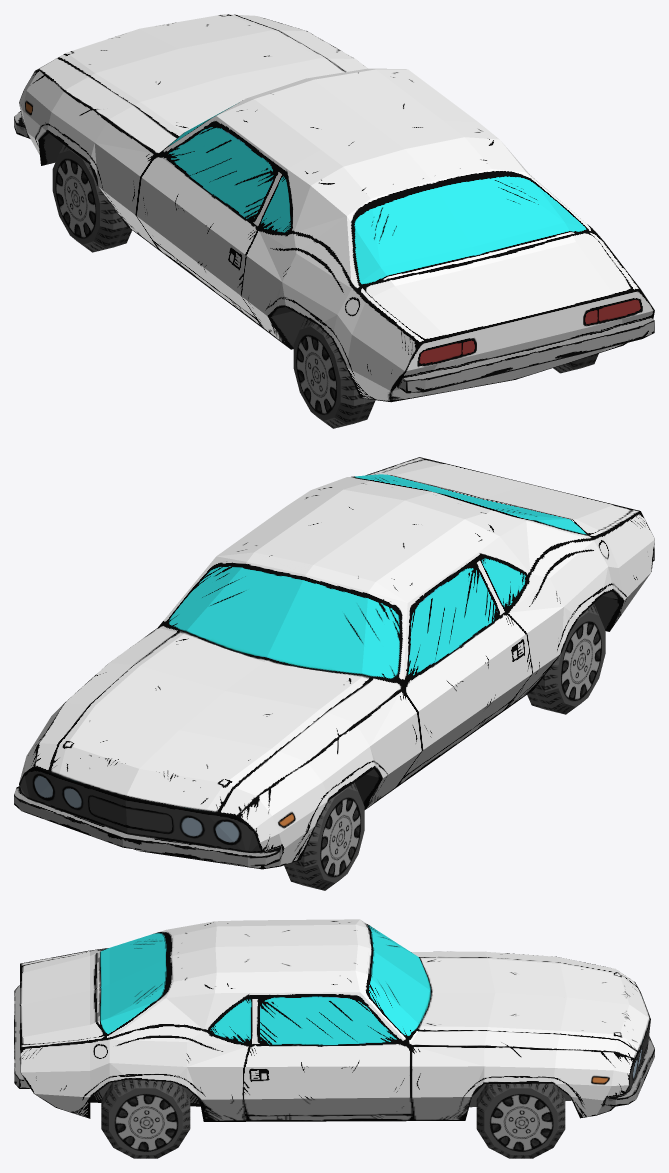
File: Lvl1.Car.fbx
The picture shows the model from 3 angles, top to bottom: view 1: azimuth 30°, elevation 25°; view 2: azimuth 150°, elevation 25°; view 3: azimuth 270°, elevation 25°; orthographic projection. The views are drawn at different scales.
Parts seen in each view (by area): view 1: Props_Car; view 2: Props_Car; view 3: Props_Car.
Boxes of the visible parts, bbox=[...] form: Props_Car: bbox=[14, 14, 654, 428]; Props_Car: bbox=[14, 457, 654, 890]; Props_Car: bbox=[14, 919, 654, 1158].
Bounding box in the file's own units: 299 × 208 × 726.
